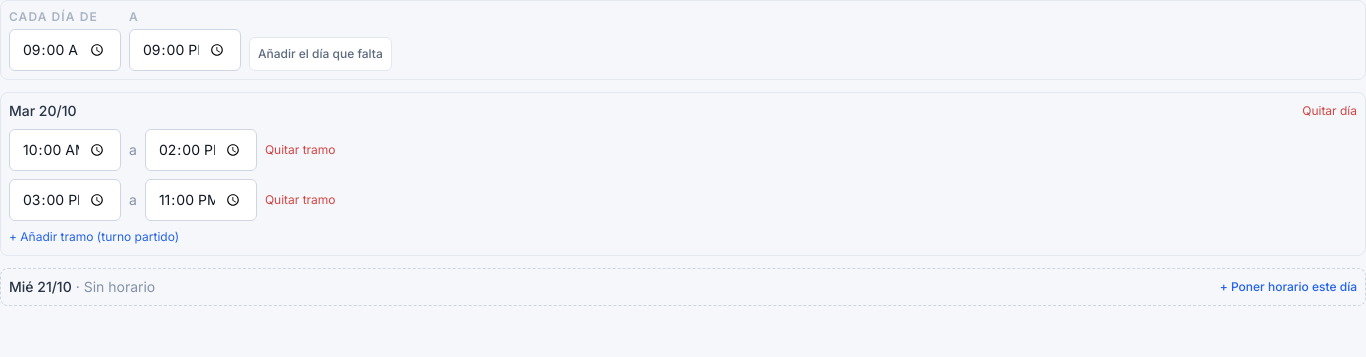
Test: HorarioJornadas › cada día de las fechas sale en la lista › el día sin horario sale como tal y «Poner horario» copia el día anterior
The width and height of the screenshot is (1366, 357).
Expected: the element with test id "dia-sin-horario-2026-10-21" shows "Mié 21/10 · Sin horario", [0,268,1365,306]
Click the button "+ Poner horario este día" at [1288, 287], box [1220,279,1357,295]
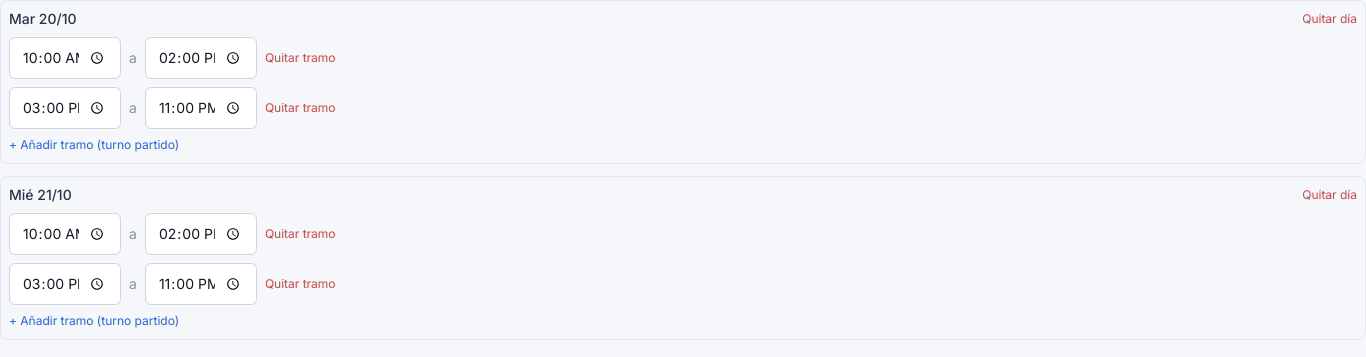
Now the time field named "Inicio del tramo 2 del Mié 21/10" holds "15:00", box [9,263,121,305]
